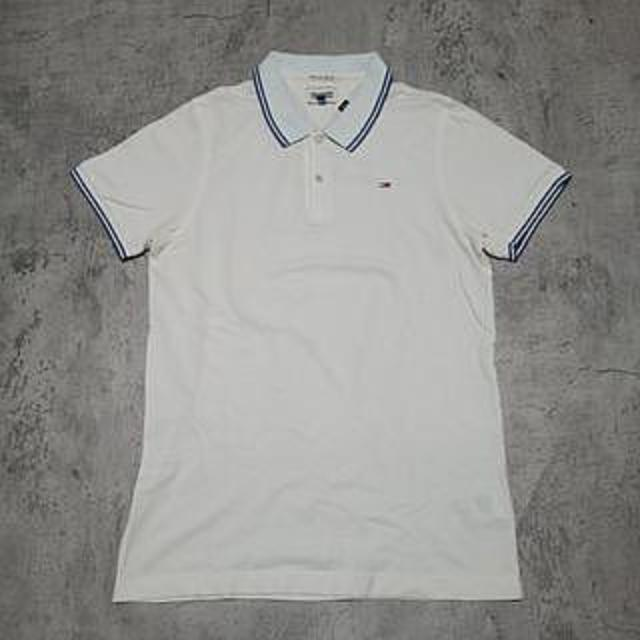T_SHIRT: (53, 41, 596, 617)
